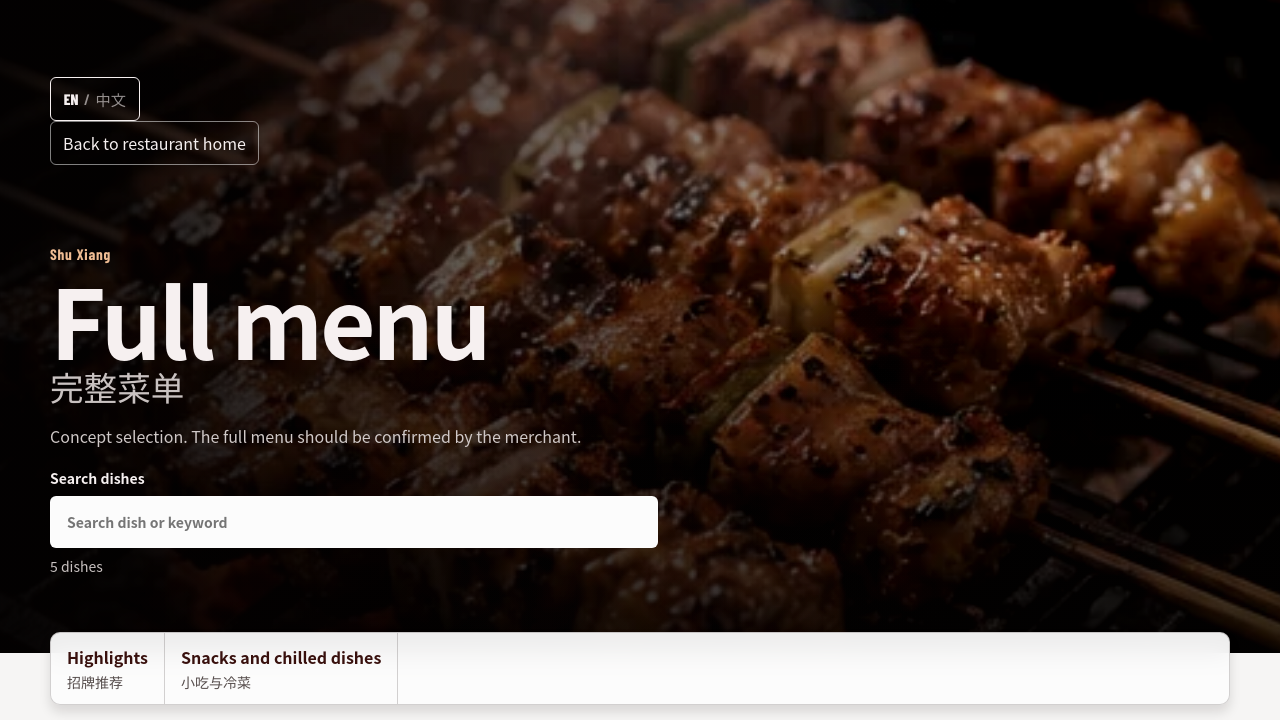
Scenario: App routes › renders a searchable internal menu page
Expected: the heading "Full menu 完整菜单" is shown, [50,249,488,408]
Expected: the text "Concept selection" is shown, [50,424,581,448]
Type "dan dan" into the search field at (354, 522), box [50,496,658,548]
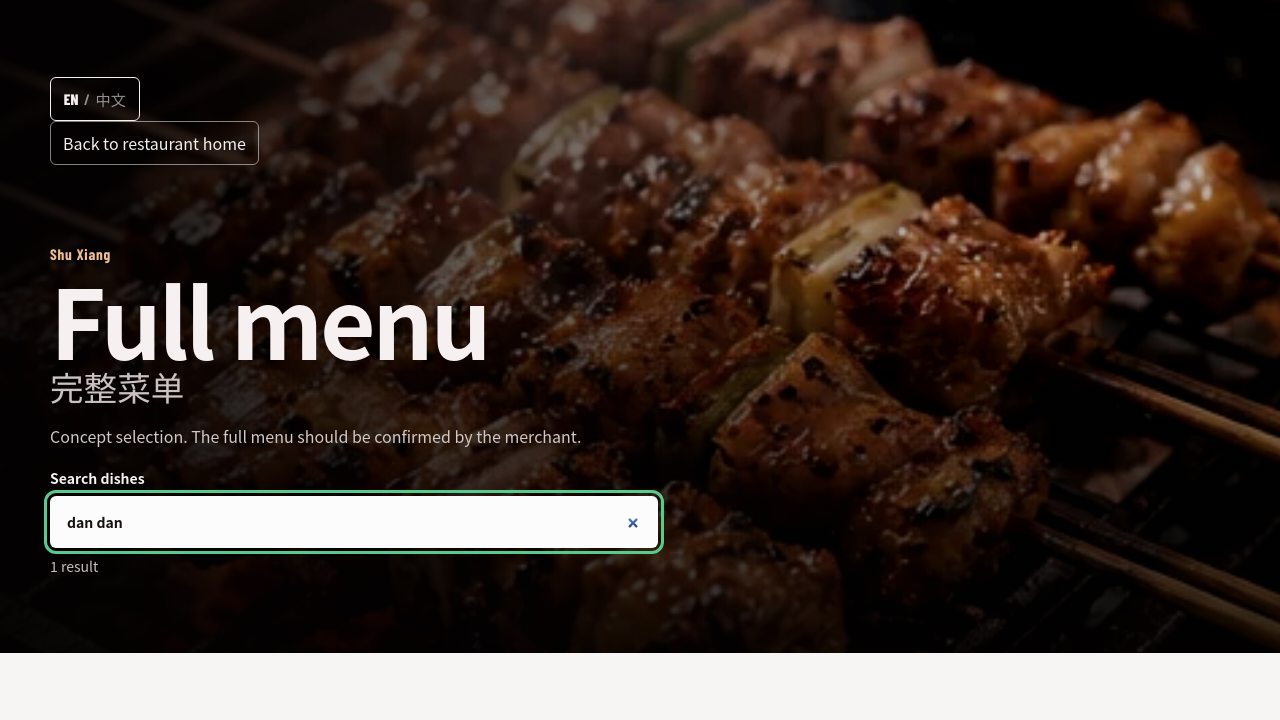
Expected: the message reads "1 result", [50,556,98,576]
